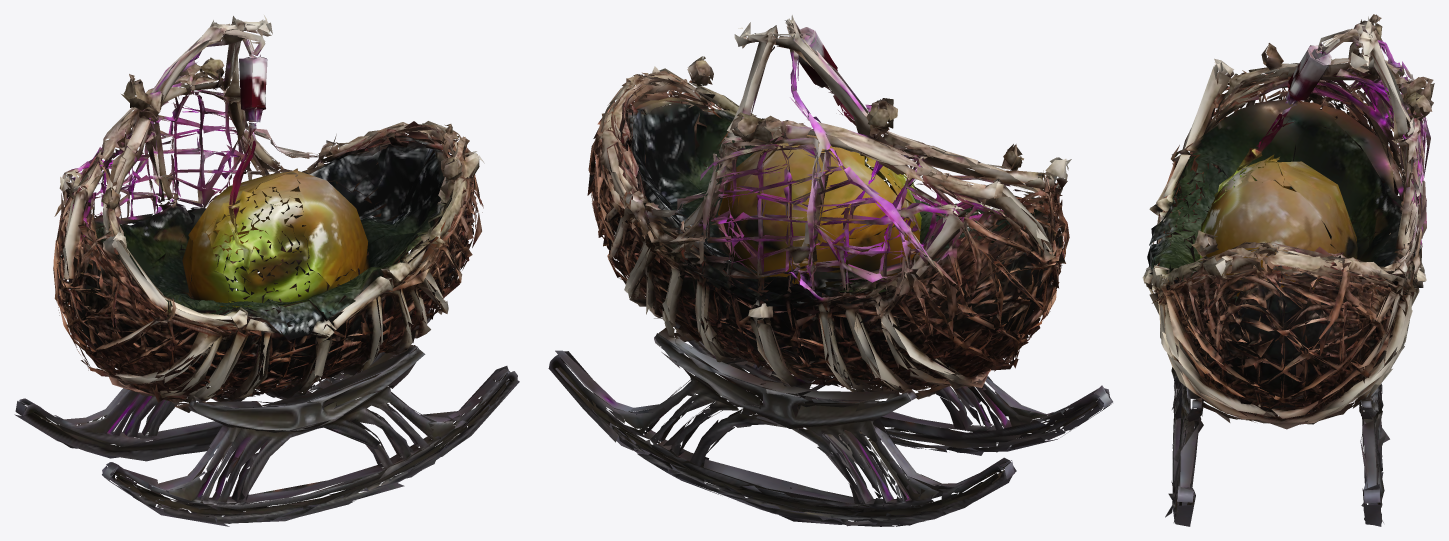
Rendered from tallow_spore_cradle.glb.
The picture shows the model from 3 angles, left to right: view 1: azimuth 30°, elevation 25°; view 2: azimuth 150°, elevation 25°; view 3: azimuth 270°, elevation 25°; orthographic projection. The views are drawn at different scales.
Visible parts, largest first — view 1: node_0; view 2: node_0; view 3: node_0.
Boxes of the visible parts, x1,y1,x2,y2 form: node_0: (14,15,519,526); node_0: (548,15,1112,526); node_0: (1142,14,1434,526).
Size of the model in its own units: 0.9653 by 0.9702 by 0.553.
Materials: 1 (1 with a texture image).
